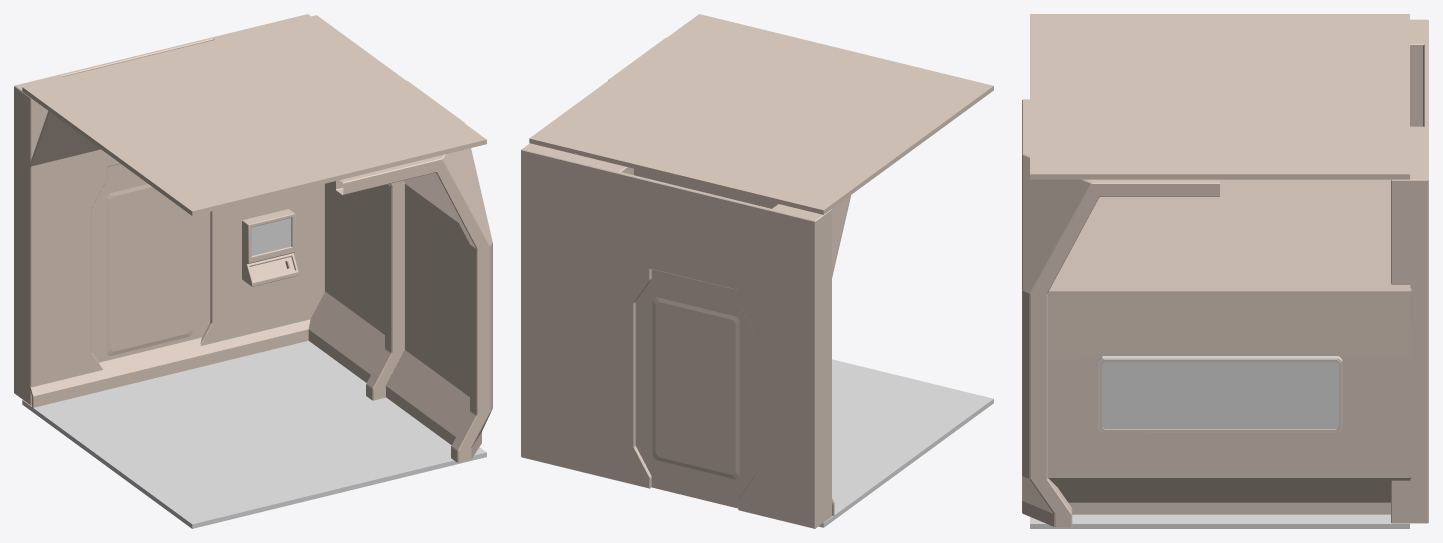
Rendered from Ship.fbx_Exports.fbx.
3 renders of one model, left to right at view 1: azimuth 30°, elevation 25°; view 2: azimuth 150°, elevation 25°; view 3: azimuth 270°, elevation 25°, orthographic. The views are drawn at different scales.
Visible parts, largest first — view 1: Ceiling, Ground, Wall_Door, Wall, Door, Connector_Corner, Wall_Corner, Wall_Window, Connector, Wall_DoorConsole; view 2: Wall_Door, Ceiling, Door, Ground, Wall_Corner; view 3: Wall_Window, Ceiling, Wall, Connector_Corner, Wall_Door, Ground.
Part boxes in pixels (bbox=[...]): Ceiling: bbox=[22, 15, 486, 215]; Ground: bbox=[22, 340, 486, 528]; Wall_Door: bbox=[14, 14, 324, 405]; Wall: bbox=[308, 155, 469, 444]; Door: bbox=[91, 163, 210, 362]; Connector_Corner: bbox=[336, 80, 492, 462]; Wall_Corner: bbox=[21, 111, 469, 443]; Wall_Window: bbox=[313, 173, 469, 444]; Connector: bbox=[366, 180, 404, 400]; Wall_DoorConsole: bbox=[242, 209, 298, 286]; Wall_Door: bbox=[521, 143, 831, 528]; Ceiling: bbox=[529, 14, 993, 214]; Door: bbox=[635, 269, 754, 508]; Ground: bbox=[818, 359, 993, 527]; Wall_Corner: bbox=[823, 195, 851, 515]; Wall_Window: bbox=[1047, 154, 1410, 514]; Ceiling: bbox=[1030, 14, 1409, 179]; Wall: bbox=[1048, 179, 1409, 514]; Connector_Corner: bbox=[1022, 99, 1219, 527]; Wall_Door: bbox=[1391, 19, 1428, 523]; Ground: bbox=[1030, 514, 1409, 528].
Size of the model in its own units: 411 by 412 by 429.
